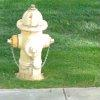a fire hydrant: (11, 4, 52, 78)
